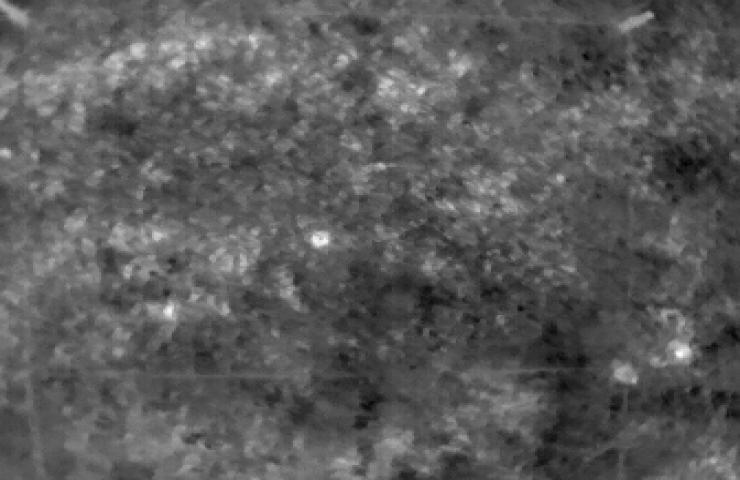landmines: (309, 230, 334, 250)
